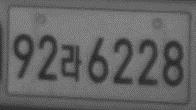2: (36, 33, 59, 82), (137, 38, 158, 87), (113, 38, 133, 85)
6: (87, 37, 109, 83)
8: (163, 40, 184, 87)
9: (13, 32, 34, 80)
라: (58, 43, 83, 84)
